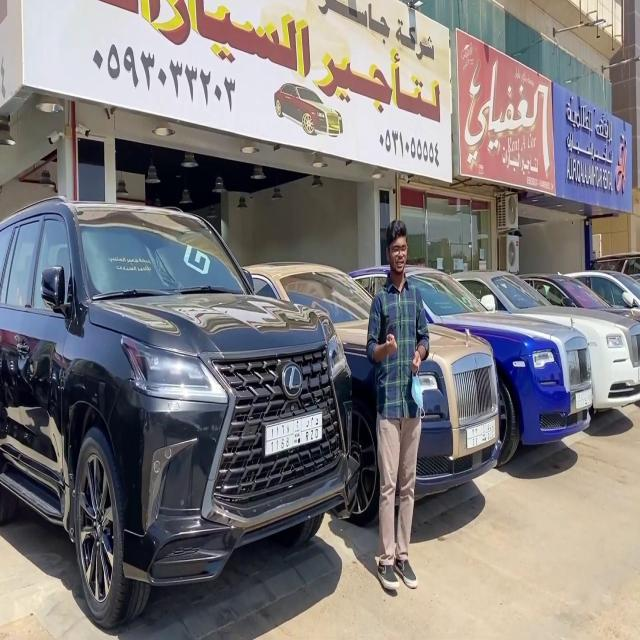license_plate: (260, 406, 324, 458)
